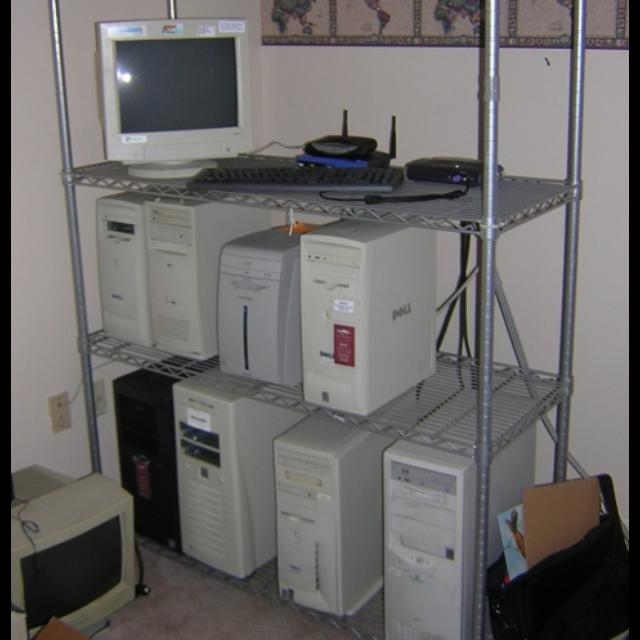Server: (304, 220, 440, 424), (381, 448, 469, 640)
